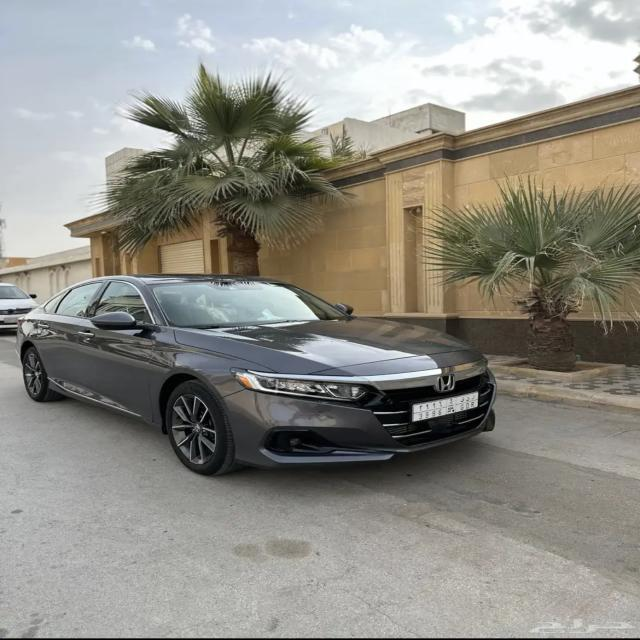license_plate: (410, 391, 480, 434)
